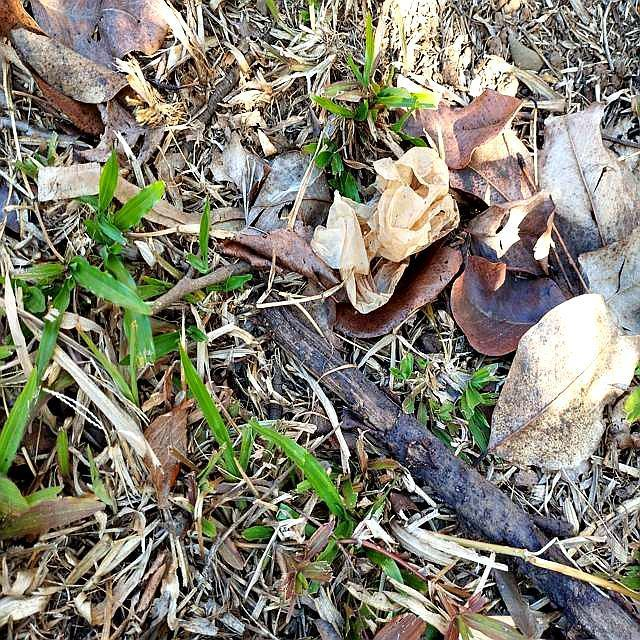Non-biodegradable: (310, 145, 462, 315)
